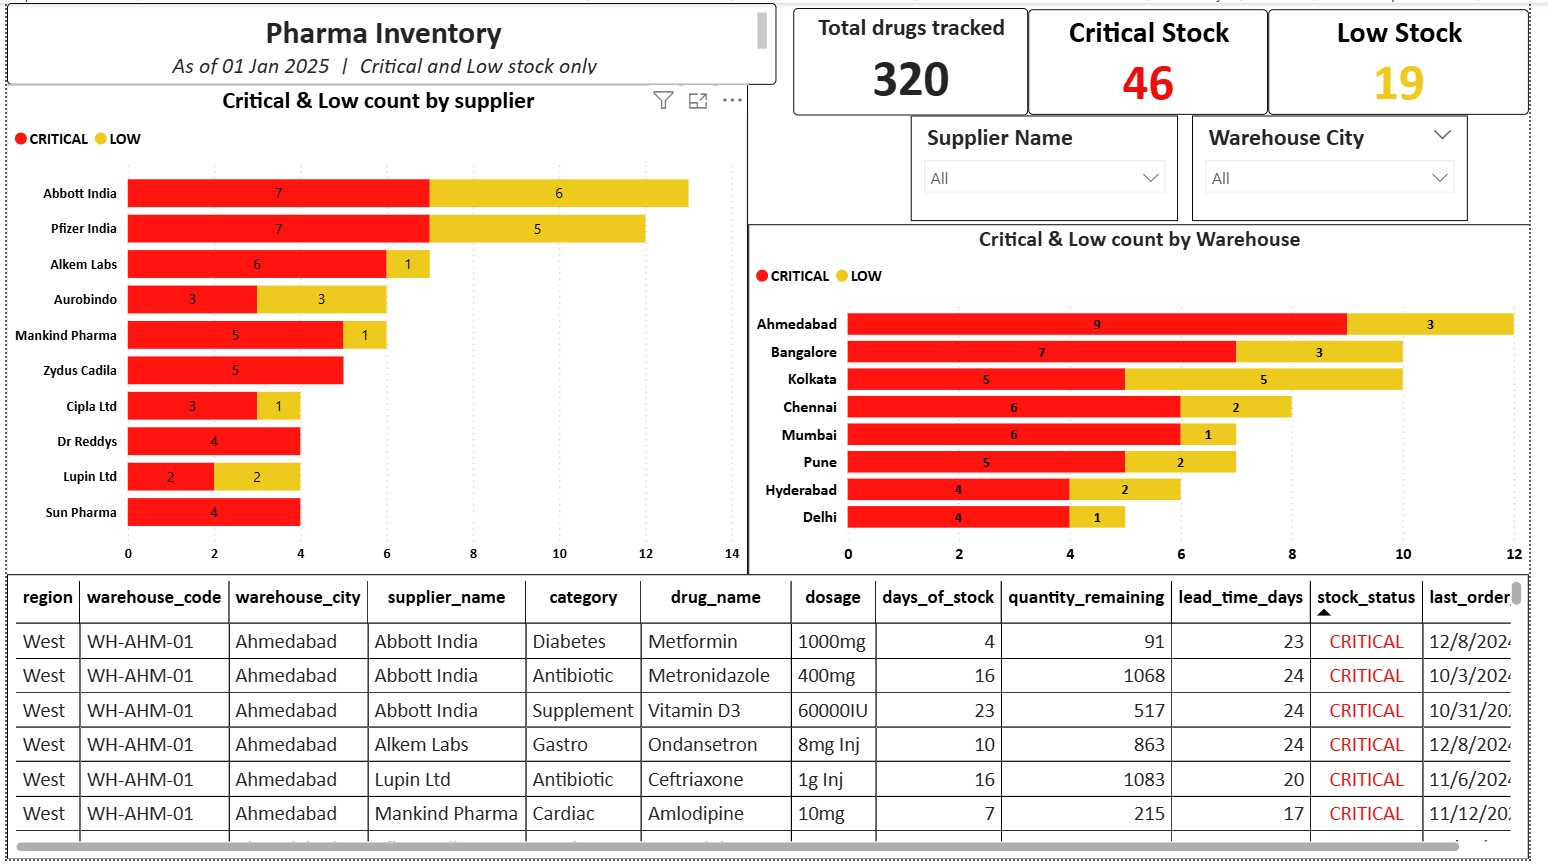

This screenshot's page, from the dashboard's own definition file:
{"tool":"powerbi","page":{"name":"Page 1","canvas":[1280,720],"ordinal":0},"visuals":[{"type":"textbox","box":[0,0,647.1,68.4],"z":0},{"type":"card","title":"Total drugs tracked","fields":{"Values":["CountNonNull(Query1.record_date)"]},"box":[661.4,4.1,197.6,90.6],"z":1000},{"type":"card","title":"Critical Stock ","fields":{"Values":["CountNonNull(Query1.drug_name)"]},"box":[859,5.5,201.7,89.2],"z":2000},{"type":"card","title":"Low Stock","fields":{"Values":["CountNonNull(Query1.drug_name)"]},"box":[1060.7,5.5,219.6,89.2],"z":3000},{"type":"barChart","title":"Critical & Low count by supplier","fields":{"Category":["Query1.supplier_name"],"Y":["CountNonNull(Query1.stock_status)"],"Series":["Query1.stock_status"]},"box":[0,68.6,623,413],"z":4000},{"type":"barChart","title":"Critical & Low count by Warehouse","fields":{"Category":["Query1.warehouse_city"],"Y":["CountNonNull(Query1.stock_status)"],"Series":["Query1.stock_status"]},"box":[623,186.6,657.3,295],"z":5000},{"type":"tableEx","fields":{"Values":["Query1.region","Query1.warehouse_code","Query1.warehouse_city","Query1.supplier_name","Query1.category","Query1.drug_name","Query1.dosage","Query1.days_of_stock","Query1.quantity_remaining","Query1.lead_time_days","Query1.stock_status","Query1.last_order_date"]},"box":[0,480.3,1280.3,240.1],"z":6000},{"type":"slicer","fields":{"Values":["Query1.supplier_name"]},"box":[760.2,94.7,225,89.2],"z":7000},{"type":"slicer","fields":{"Values":["Query1.warehouse_city"]},"box":[996.2,94.7,231.9,89.2],"z":8000}]}

Visuals, with their boxes in screenshot pixels (x1, y1, x2, y2), scaled from the page's 1280x720 canvas onto the 1548x867 screenshot:
textbox: BBox(0, 0, 783, 82)
"Total drugs tracked" card: BBox(800, 5, 1039, 114)
"Critical Stock " card: BBox(1039, 7, 1283, 114)
"Low Stock" card: BBox(1283, 7, 1547, 114)
"Critical & Low count by supplier" barChart: BBox(0, 83, 753, 580)
"Critical & Low count by Warehouse" barChart: BBox(753, 225, 1547, 580)
tableEx - Query1.region x Query1.warehouse_code: BBox(0, 578, 1547, 866)
slicer - Query1.supplier_name: BBox(919, 114, 1191, 221)
slicer - Query1.warehouse_city: BBox(1205, 114, 1485, 221)
